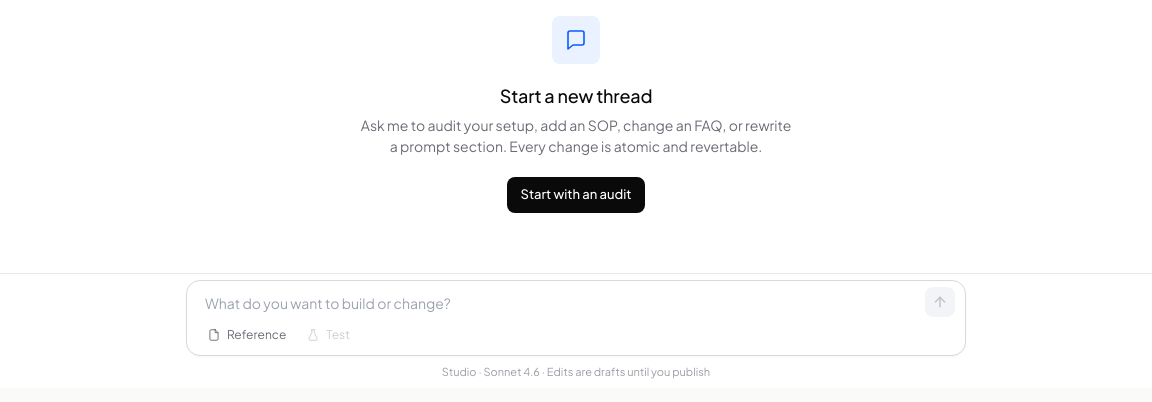
Test case: StudioChat composer F8 — enhance-prompt button › hides the ✨ button below 10 chars, shows it at 10+
This screenshot has width=1152, height=402.
Step 1. Type "short" into the text box named "Message the studio agent" → [557, 302], box [197,288,917,316]
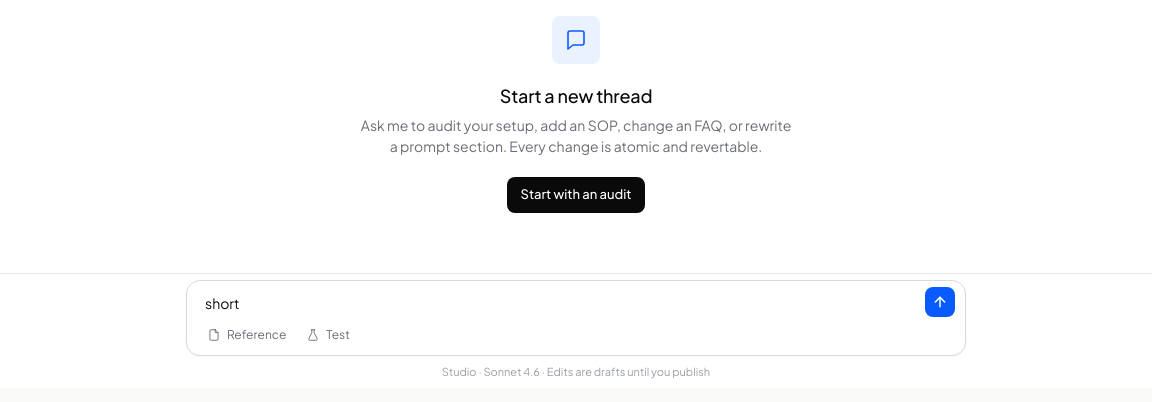
Step 2. Replace the text in the text box named "Message the studio agent" with "Please tighten this draft further." → [557, 302], box [197,288,917,316]
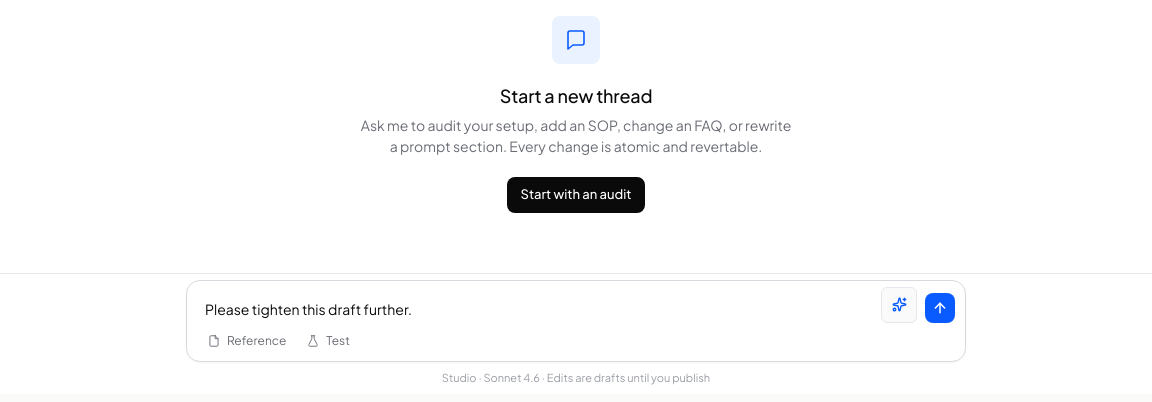
Now the button with test id "composer-enhance-button" is shown, box [881,286,917,322]
